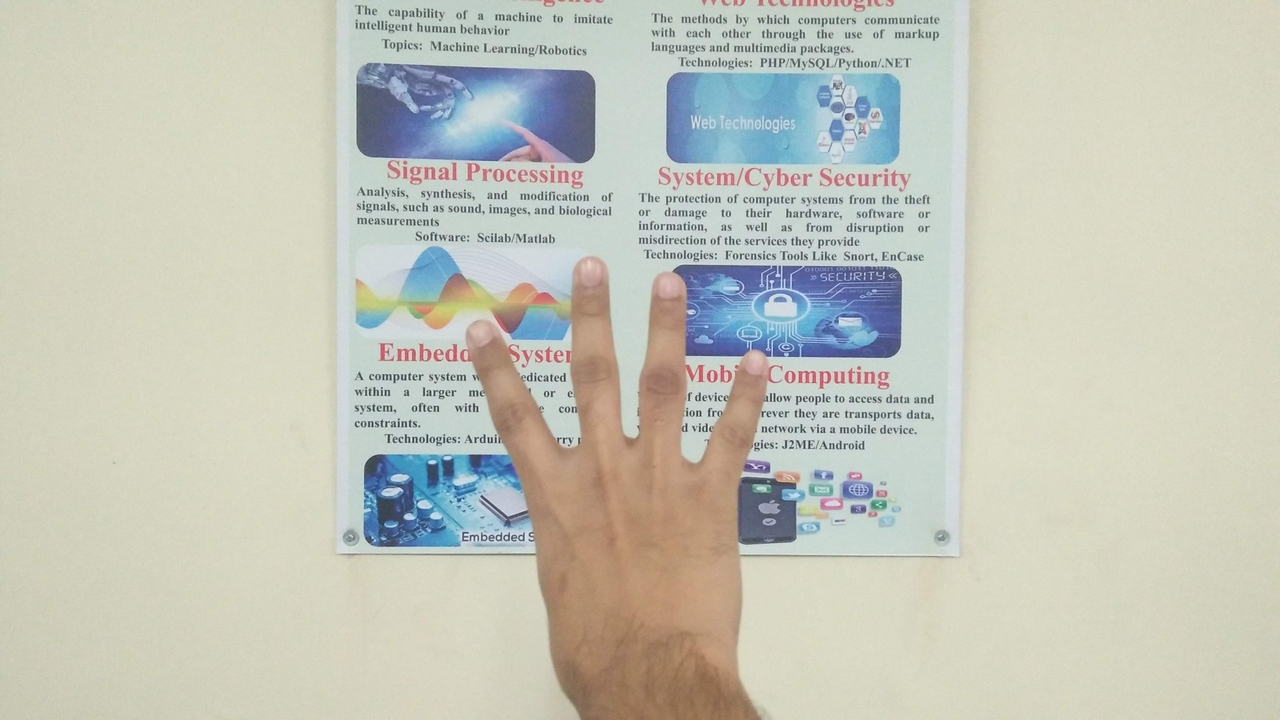fingertip: (456, 310, 512, 370), (562, 250, 618, 300), (728, 342, 782, 390), (642, 264, 692, 310)
